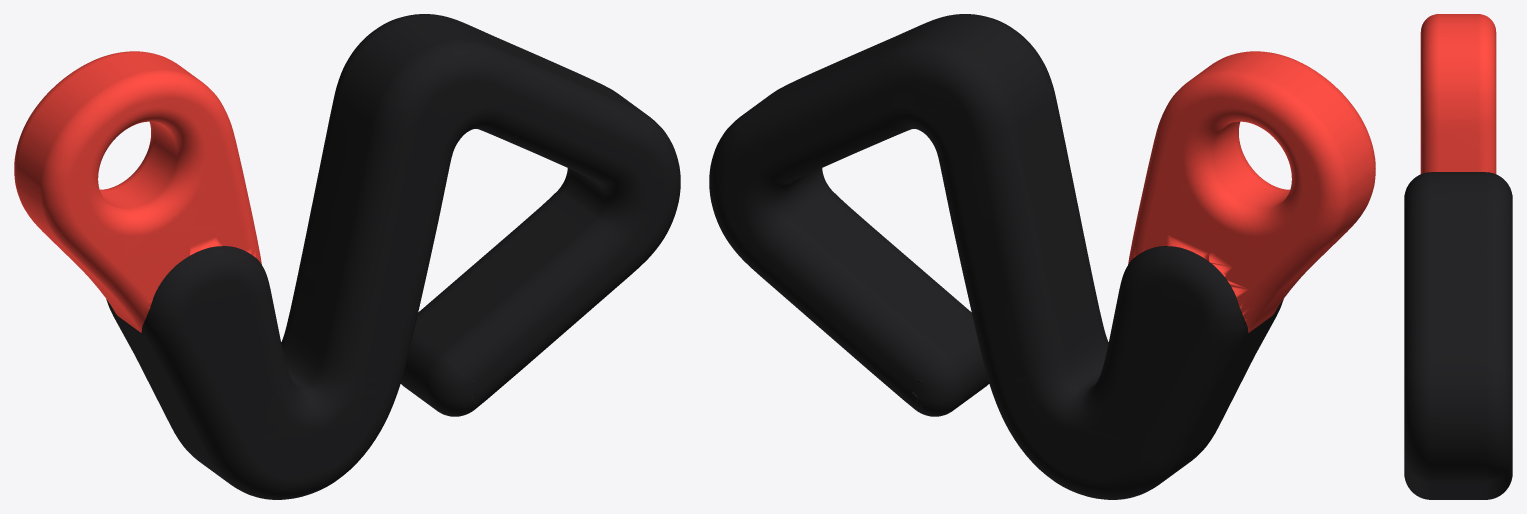
Rendered from wayfare-znak-kosi.glb.
The picture shows the model from 3 angles, left to right: view 1: azimuth 30°, elevation 25°; view 2: azimuth 150°, elevation 25°; view 3: azimuth 270°, elevation 25°; orthographic projection. The views are drawn at different scales.
Visible parts, largest first — view 1: Znak, kos_031, kos_034, kos_079, kos_035, kos_021, kos_077, kos_027, kos_028, kos_038, kos_002, kos_049 (+44 smaller); view 2: Znak, kos_056, kos_026, kos_054, kos_021, kos_052, kos_044, kos_074, kos_039, kos_042, kos_079, kos_051 (+44 smaller); view 3: Znak, kos_023, kos_034, kos_048, kos_019, kos_070, kos_067, kos_007, kos_069, kos_043, kos_020, kos_022 (+11 smaller).
Boxes of the visible parts, bbox=[...] form: Znak: bbox=[14, 14, 680, 499]; kos_031: bbox=[354, 87, 458, 188]; kos_034: bbox=[596, 83, 678, 197]; kos_079: bbox=[425, 281, 522, 352]; kos_035: bbox=[289, 287, 388, 379]; kos_021: bbox=[473, 226, 564, 333]; kos_077: bbox=[318, 161, 418, 236]; kos_027: bbox=[285, 396, 371, 491]; kos_028: bbox=[310, 182, 414, 293]; kos_038: bbox=[518, 204, 624, 298]; kos_002: bbox=[366, 239, 434, 358]; kos_049: bbox=[422, 350, 526, 416]; Znak: bbox=[709, 14, 1375, 499]; kos_056: bbox=[1012, 350, 1101, 451]; kos_026: bbox=[1114, 343, 1243, 419]; kos_054: bbox=[897, 40, 986, 135]; kos_021: bbox=[799, 242, 924, 318]; kos_052: bbox=[952, 136, 1034, 236]; kos_044: bbox=[724, 168, 823, 236]; kos_074: bbox=[996, 247, 1087, 333]; kos_039: bbox=[1117, 410, 1226, 487]; kos_042: bbox=[1141, 140, 1214, 230]; kos_079: bbox=[890, 272, 974, 348]; kos_051: bbox=[886, 325, 980, 408]; Znak: bbox=[1405, 14, 1511, 499]; kos_023: bbox=[1404, 245, 1512, 312]; kos_034: bbox=[1404, 326, 1499, 418]; kos_048: bbox=[1404, 208, 1509, 274]; kos_019: bbox=[1404, 366, 1512, 442]; kos_070: bbox=[1404, 419, 1511, 470]; kos_067: bbox=[1420, 55, 1496, 118]; kos_007: bbox=[1420, 106, 1495, 163]; kos_069: bbox=[1414, 183, 1512, 249]; kos_043: bbox=[1421, 26, 1496, 82]; kos_020: bbox=[1404, 286, 1512, 342]; kos_022: bbox=[1404, 443, 1512, 480].
Bounding box in the file's own units: 1.55 × 1.07 × 0.2741.
